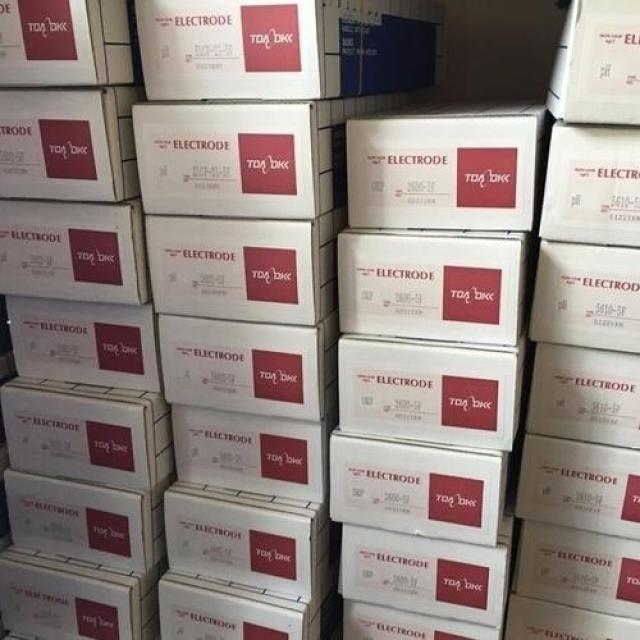box: (132, 84, 443, 220), (133, 0, 448, 101), (347, 95, 547, 232), (142, 204, 349, 326), (338, 323, 529, 452), (338, 227, 539, 346), (337, 494, 515, 628), (328, 425, 512, 547), (164, 479, 343, 600), (154, 307, 338, 422), (0, 376, 175, 492), (3, 468, 178, 575), (0, 82, 146, 202), (157, 547, 343, 639), (169, 402, 338, 502), (0, 197, 152, 305), (0, 544, 169, 639), (5, 296, 163, 390), (509, 431, 640, 540), (509, 516, 640, 620), (538, 118, 640, 247), (521, 342, 640, 451), (529, 238, 639, 355), (543, 1, 640, 125), (343, 599, 504, 640), (502, 593, 640, 640), (0, 294, 18, 388)
